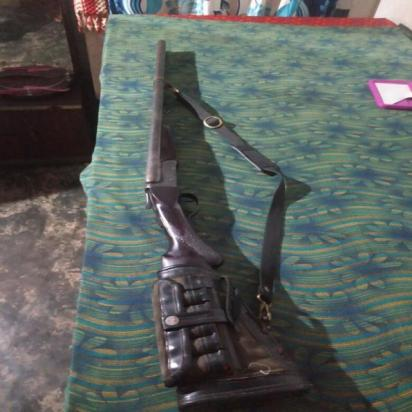Gun: (142, 38, 316, 412)
